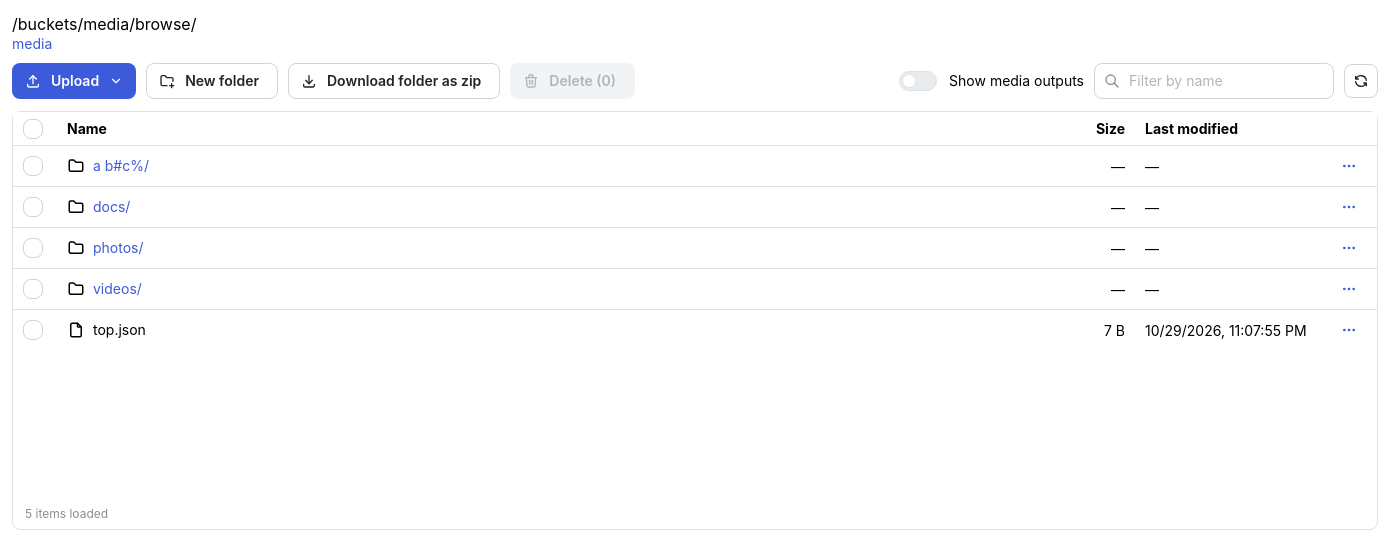
Test: ObjectBrowser (TD-U-05) › hides the outputs of the media worker at the root unless asked
Expected: the link "videos/" is shown, x1=93 y1=279 x2=142 y2=300
Click the switch labelled "Show media outputs".
click(992, 81)  # box x1=899 y1=71 x2=1084 y2=91
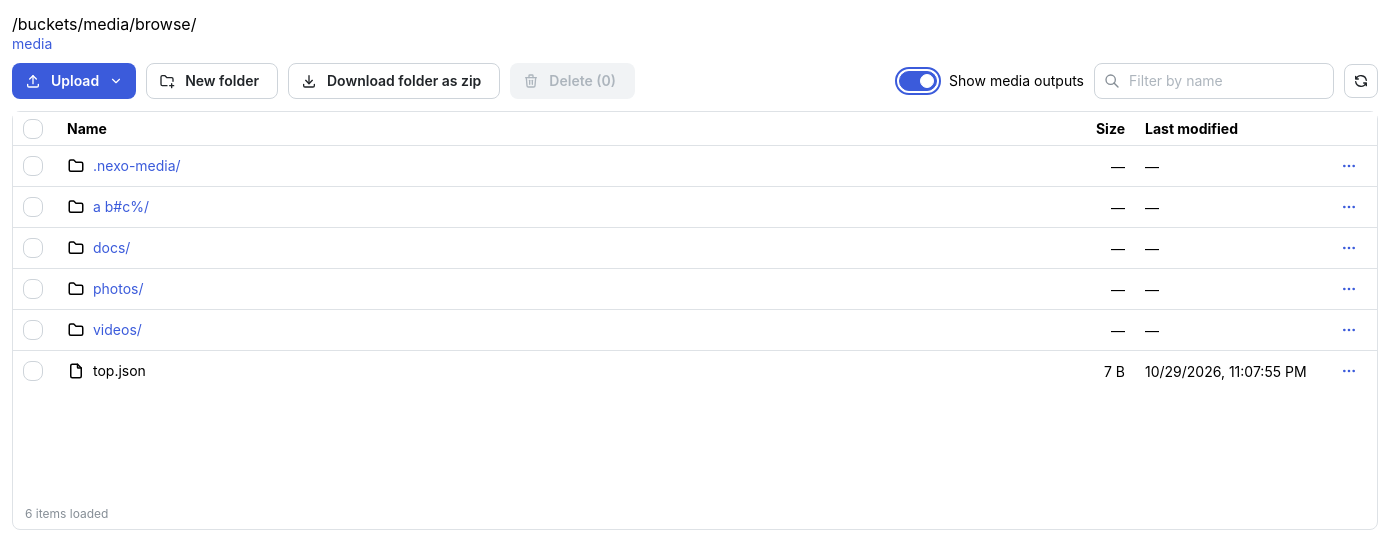
Now the link ".nexo-media/" is shown, box x1=93 y1=156 x2=181 y2=177
Click the switch labelled "Show media outputs".
click(992, 81)  # box x1=899 y1=71 x2=1084 y2=91
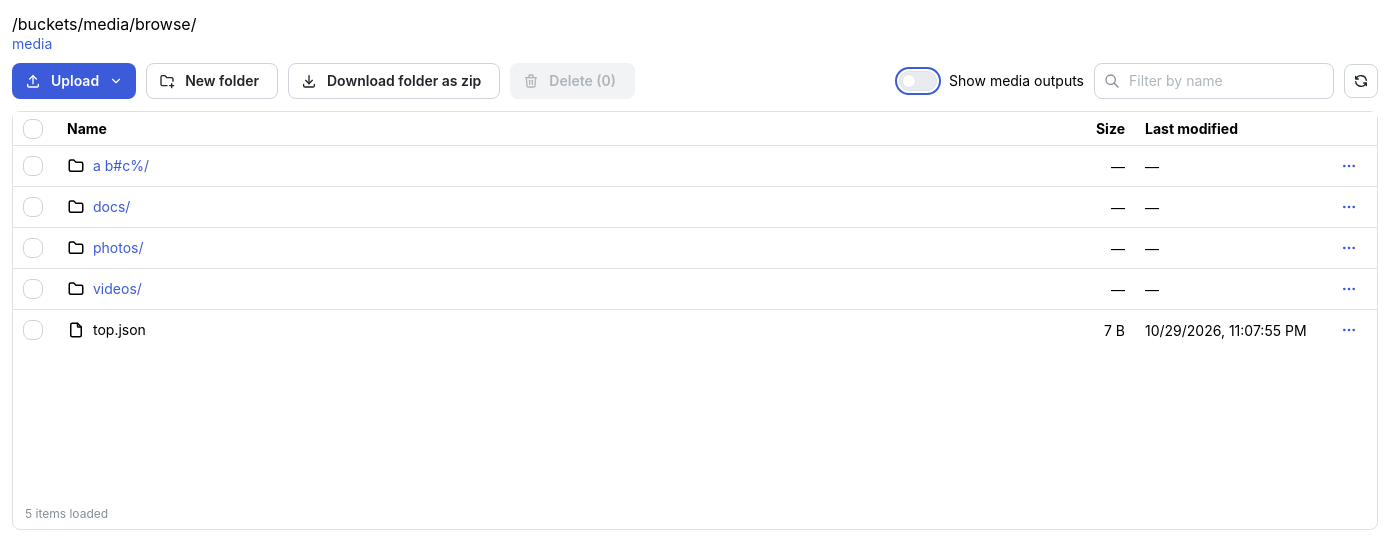
Now the link ".nexo-media/" is gone
